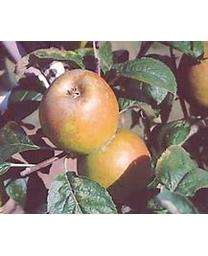apple: (40, 70, 119, 158), (77, 128, 152, 202), (177, 41, 207, 118)
